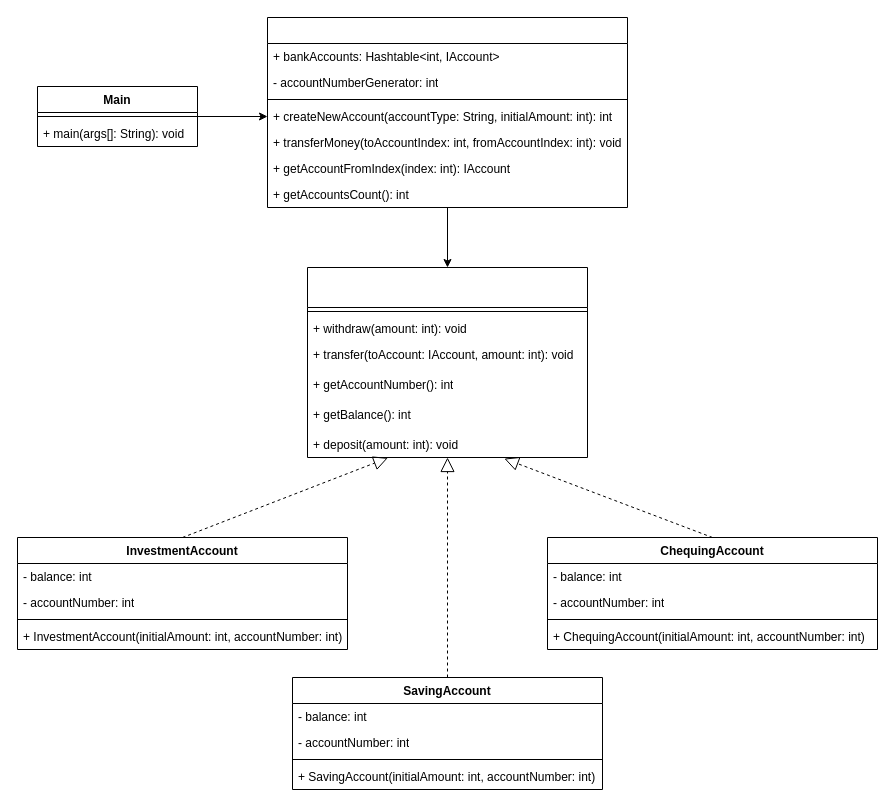
Image size: 895x810. Some labels were removed from this diagram. The shapes that lost their labels are listed below. From the top down, each one's box as (x1, y1, x2, y2) in pixels, then its label:
(266, 16, 628, 208): BankService
(306, 266, 588, 458): <<interface>> IAccount
